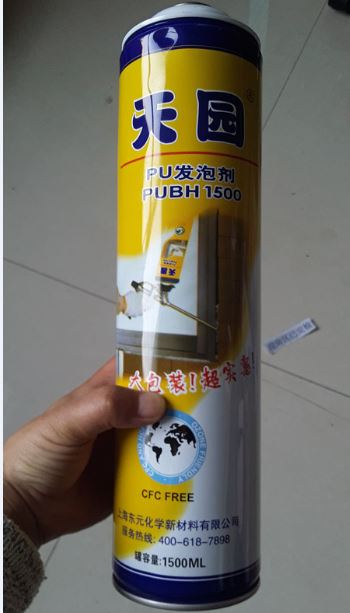Aerosol_cans: (110, 3, 264, 613)
